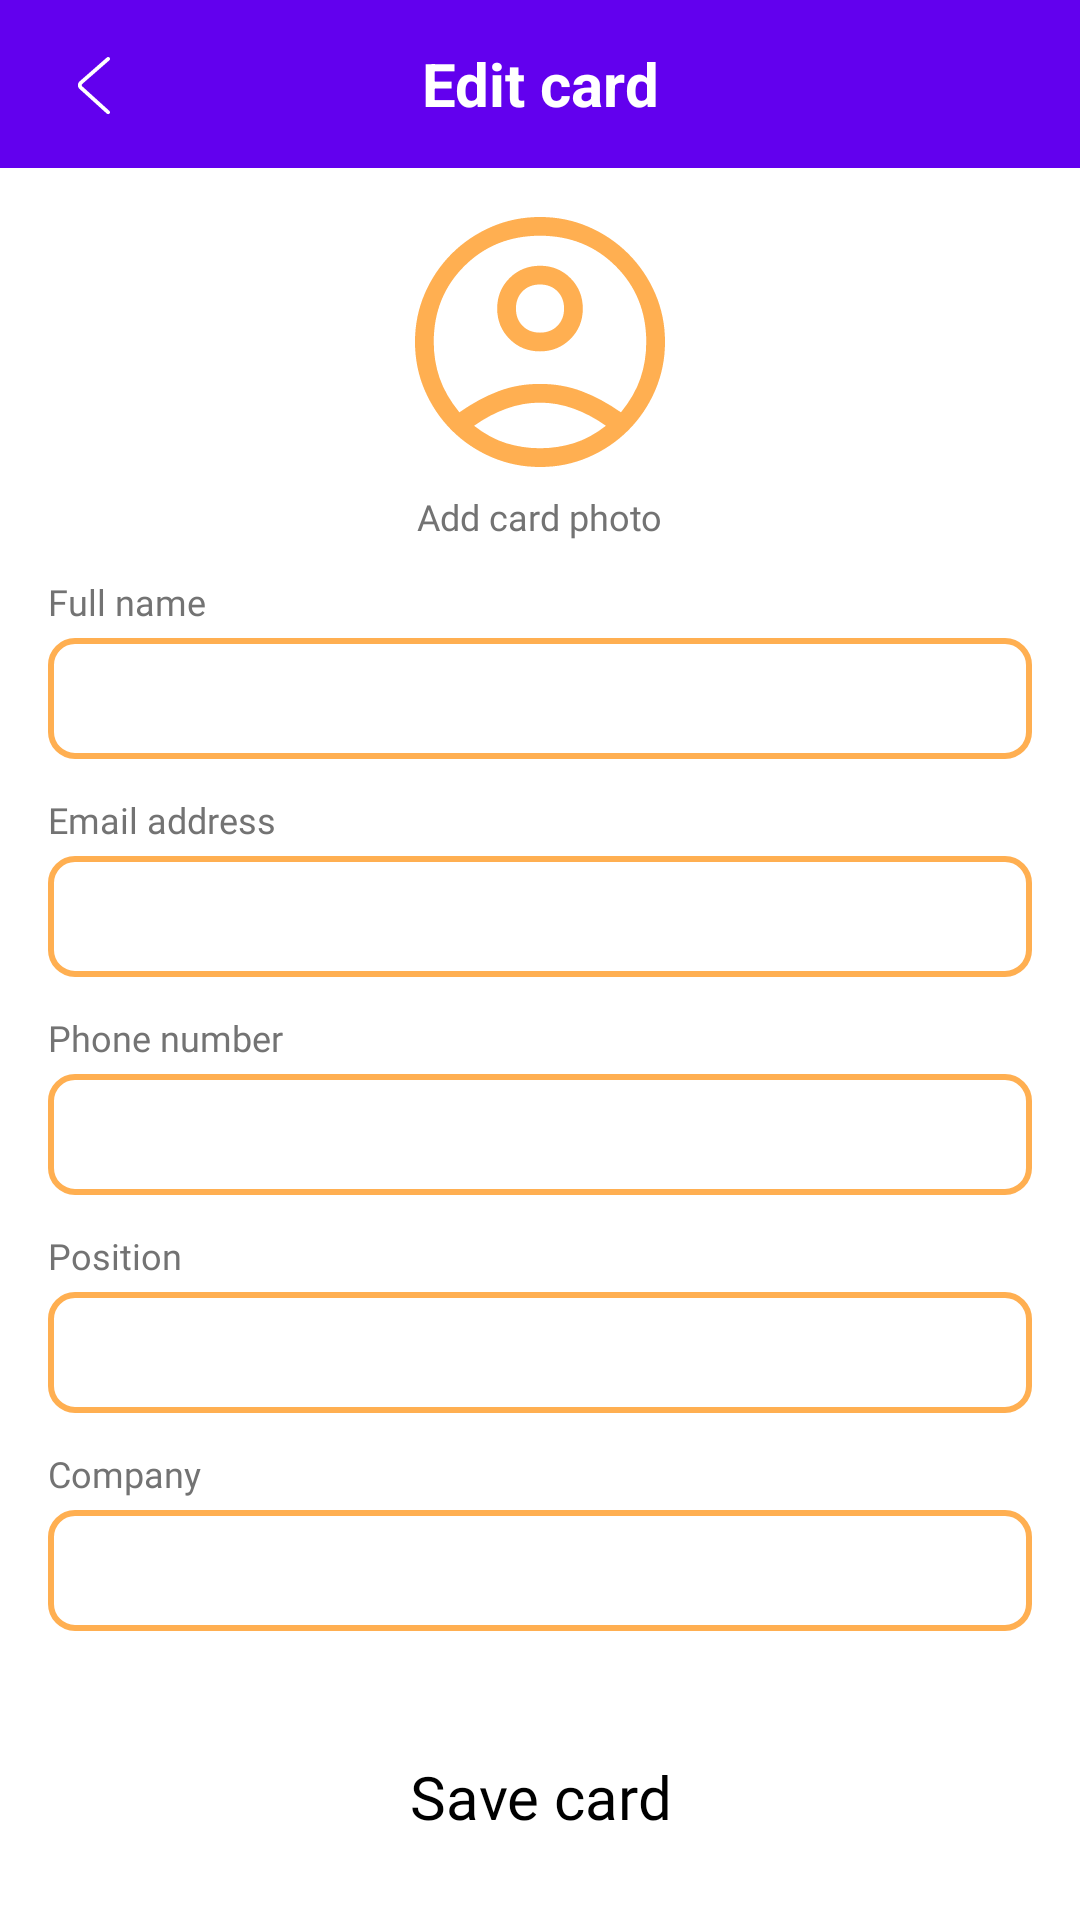

Point at icon controls on the screen. Image size 1080x1920, points as point (x, y).
account circle: point (540, 342)
back: point (94, 85)
